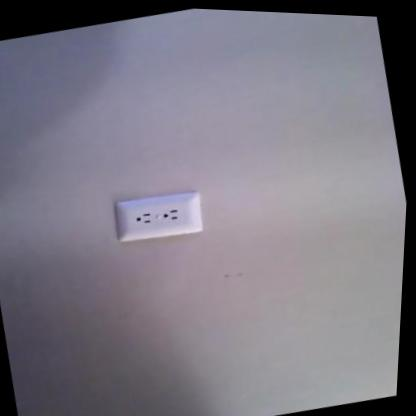OUTLET: (110, 182, 206, 249)
